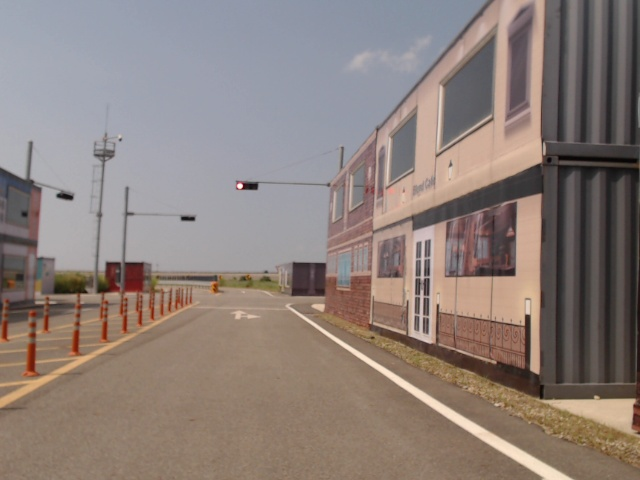red_3: (236, 182, 257, 190)
